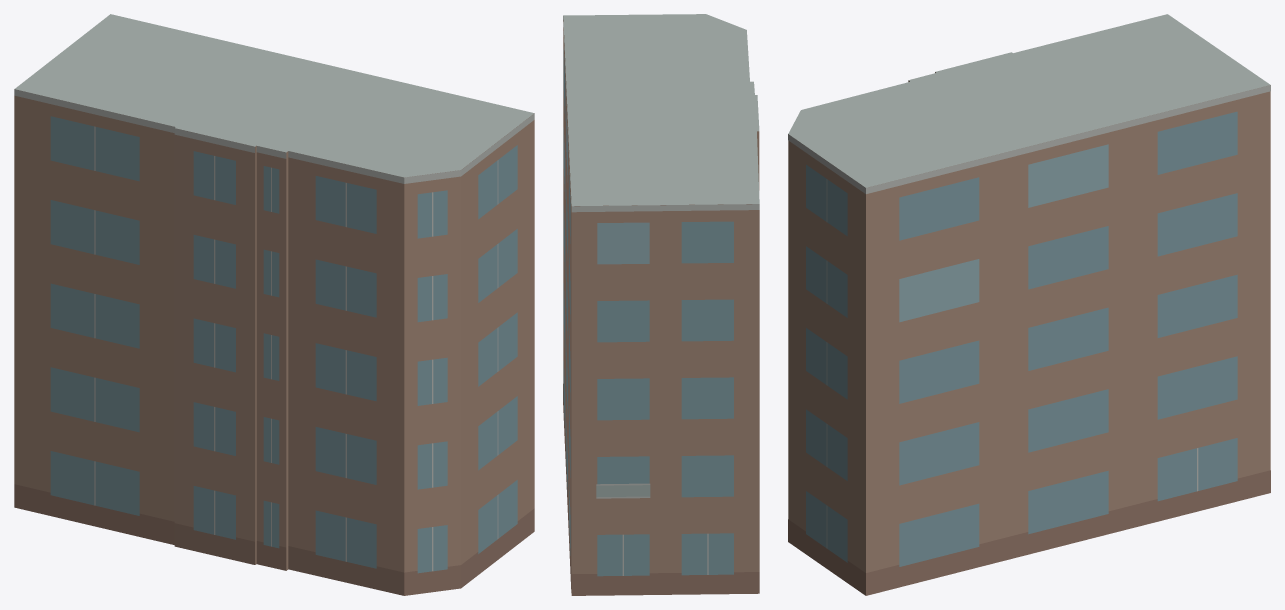
The model's file is survey-upis-32529266.glb.
3 views of the same model, side by side, from view 1: azimuth 30°, elevation 25°; view 2: azimuth 150°, elevation 25°; view 3: azimuth 270°, elevation 25° (orthographic). The views are drawn at different scales.
Visible parts, largest first — view 1: survey-upis-32529266.tmp; view 2: survey-upis-32529266.tmp; view 3: survey-upis-32529266.tmp.
Boxes of the visible parts, left/top/right/bottom form: survey-upis-32529266.tmp: left=14, top=14, right=534, bottom=595; survey-upis-32529266.tmp: left=563, top=14, right=759, bottom=595; survey-upis-32529266.tmp: left=788, top=14, right=1270, bottom=595.
Bounding box in the file's own units: 14.36 × 15.7 × 16.84.
